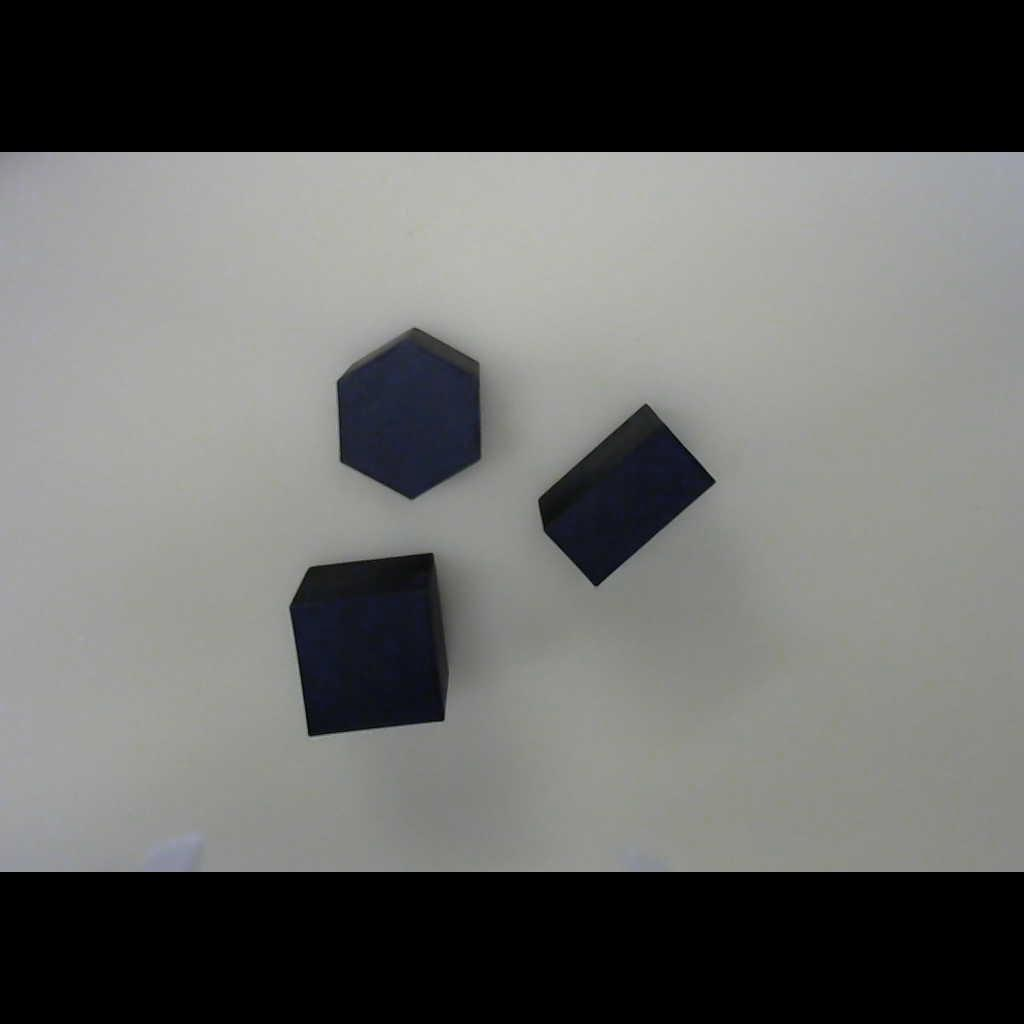hexagon: (319, 314, 498, 513)
rectangle: (509, 386, 731, 604)
square: (263, 524, 479, 760)
